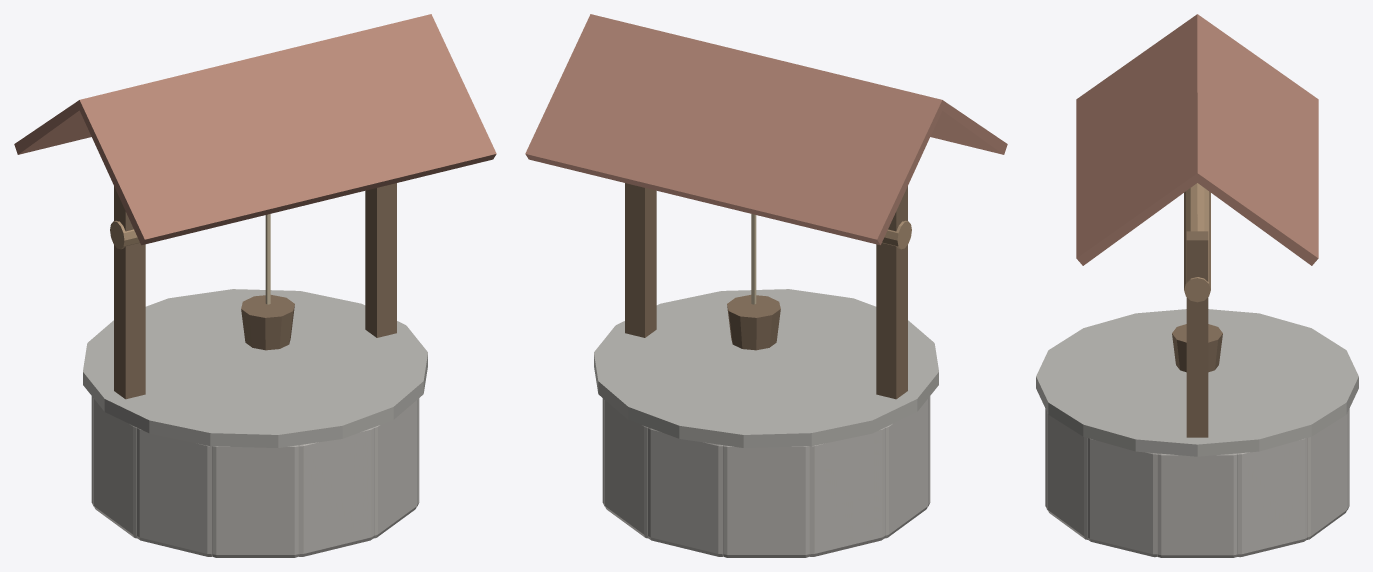
File: well.glb
3 renders of one model, left to right at view 1: azimuth 30°, elevation 25°; view 2: azimuth 150°, elevation 25°; view 3: azimuth 270°, elevation 25°, orthographic. The views are drawn at different scales.
Parts seen in each view (by area): view 1: well; view 2: well; view 3: well.
Boxes of the visible parts, x1=… form: well: x1=14, y1=14, x2=496, y2=557; well: x1=525, y1=14, x2=1007, y2=557; well: x1=1036, y1=14, x2=1358, y2=557.
Bounding box in the file's own units: 2.8 × 3.3 × 2.4.
